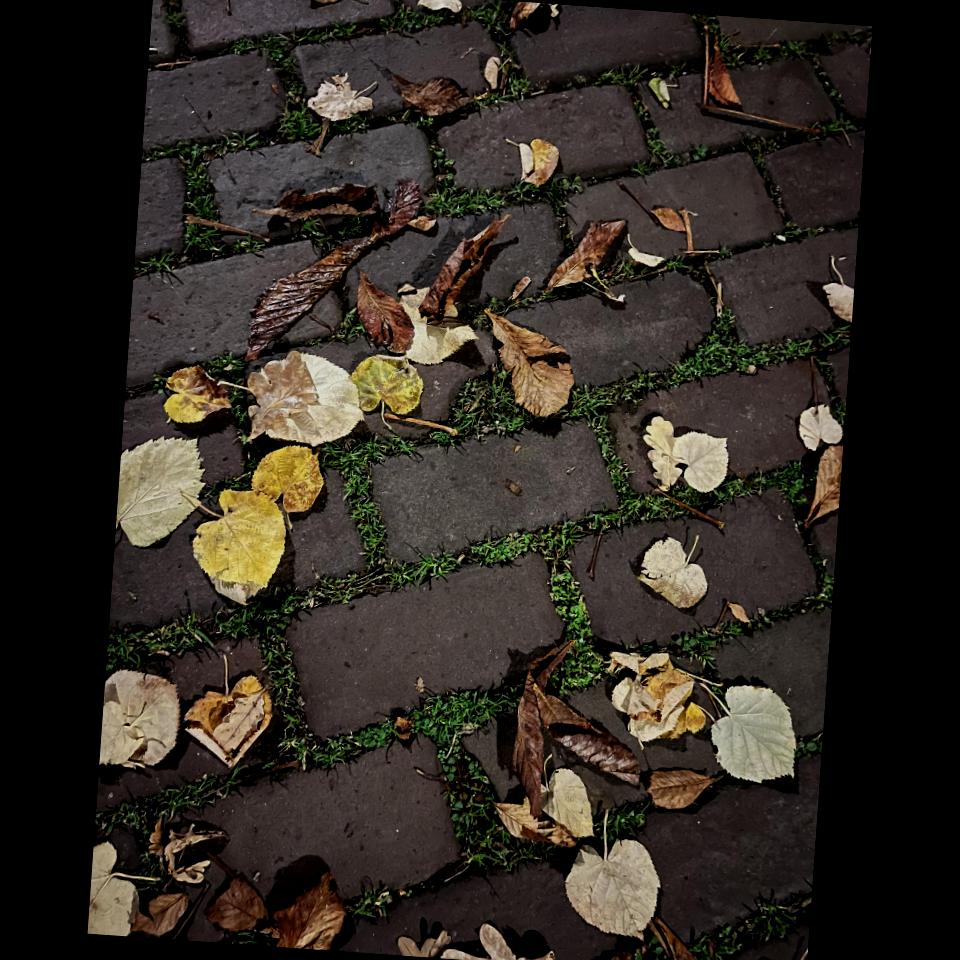weed: (106, 491, 689, 670), (95, 715, 396, 835), (565, 311, 852, 432), (442, 744, 560, 873), (410, 680, 523, 757), (702, 462, 815, 508), (506, 176, 582, 216), (428, 180, 506, 216), (265, 630, 287, 664), (276, 667, 296, 697)
